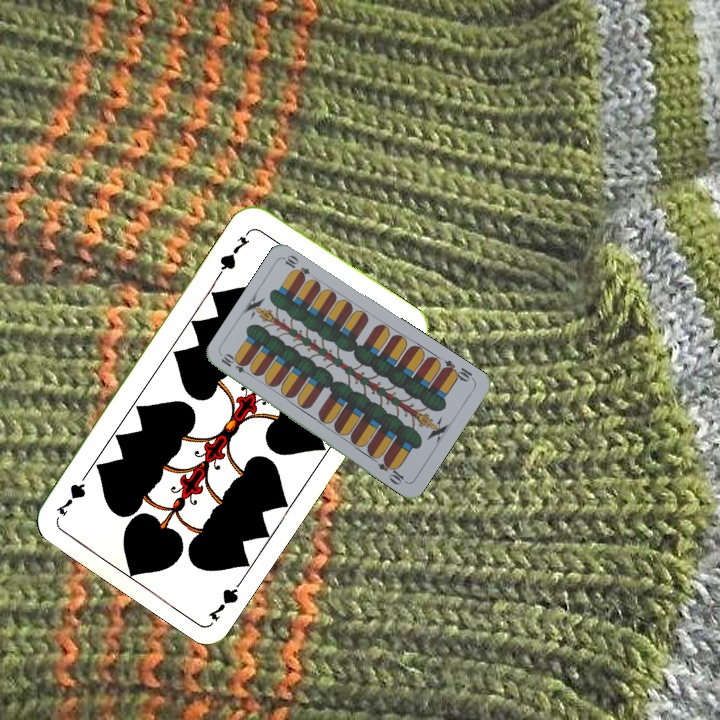E10: (438, 356, 477, 385), (217, 351, 255, 379)
G7: (204, 571, 249, 624), (215, 225, 255, 277)
